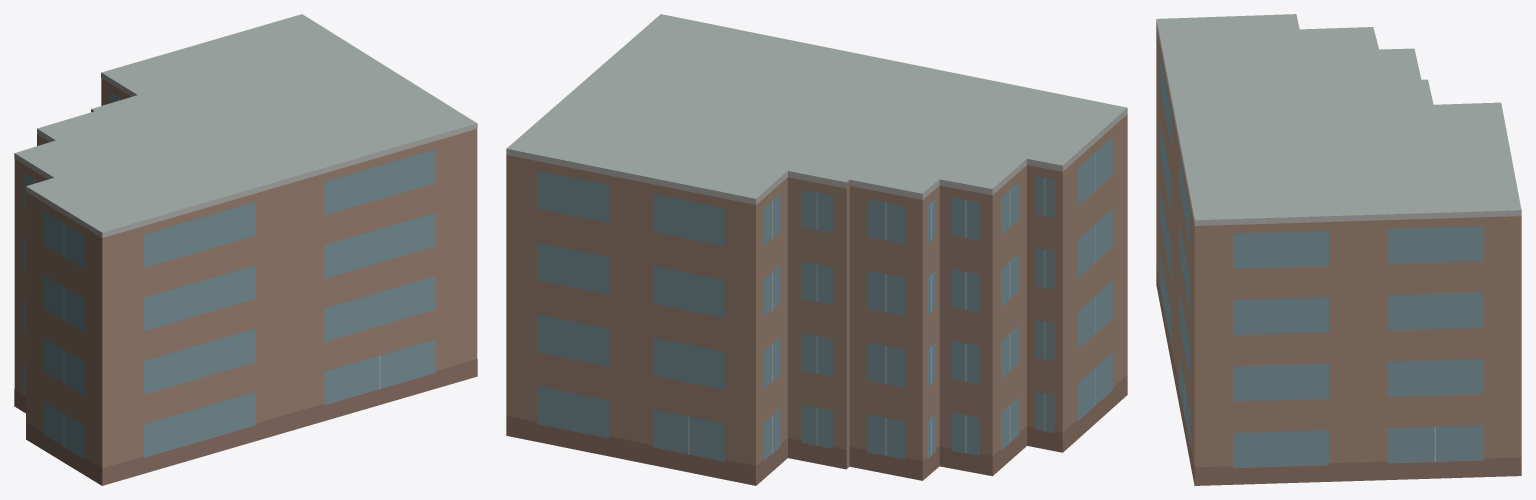
Rendered from survey-upis-32757035.glb.
3 views of the same model, side by side, from view 1: azimuth 30°, elevation 25°; view 2: azimuth 150°, elevation 25°; view 3: azimuth 270°, elevation 25° (orthographic). The views are drawn at different scales.
Visible parts, largest first — view 1: survey-upis-32757035.tmp; view 2: survey-upis-32757035.tmp; view 3: survey-upis-32757035.tmp.
Part boxes in pixels (x1=…): survey-upis-32757035.tmp: x1=14, y1=14, x2=477, y2=485; survey-upis-32757035.tmp: x1=506, y1=14, x2=1127, y2=485; survey-upis-32757035.tmp: x1=1156, y1=14, x2=1521, y2=485.
Bounding box in the file's own units: 18.83 × 11.3 × 14.09.
